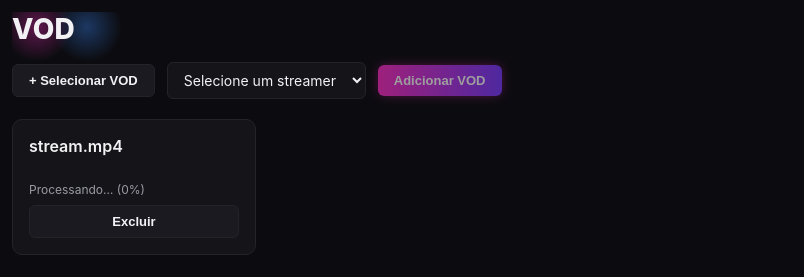
VodPage › shows the server's error message when creation fails
Expected: the heading "stream.mp4" is shown, 29,136 -> 123,156
Click the button "+ Selecionar VOD".
click(83, 80)  # box 12,64 -> 155,97
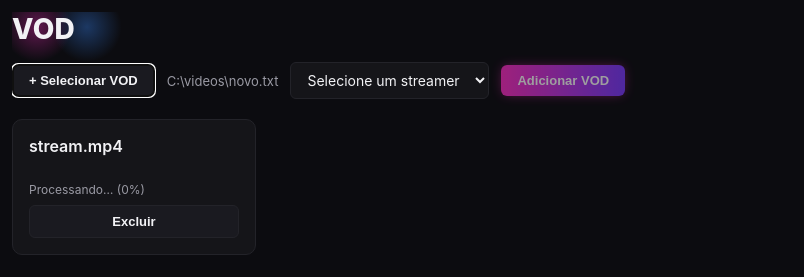
Now the text "C:\\videos\\novo.txt" is shown, box 167,72 -> 278,88
Select "DiParis7k" in the dropdown at (390, 80), box 290,62 -> 489,99
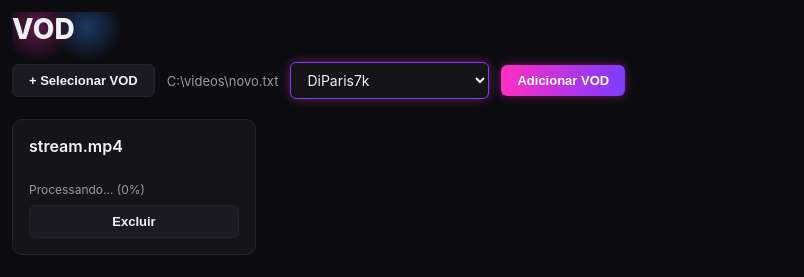
Click the button "Adicionar VOD".
click(563, 80)  # box 501,65 -> 625,96
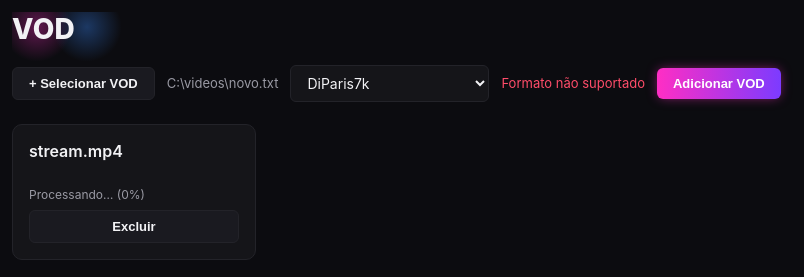
Now the text "Formato não suportado" is shown, box 501,75 -> 645,91
